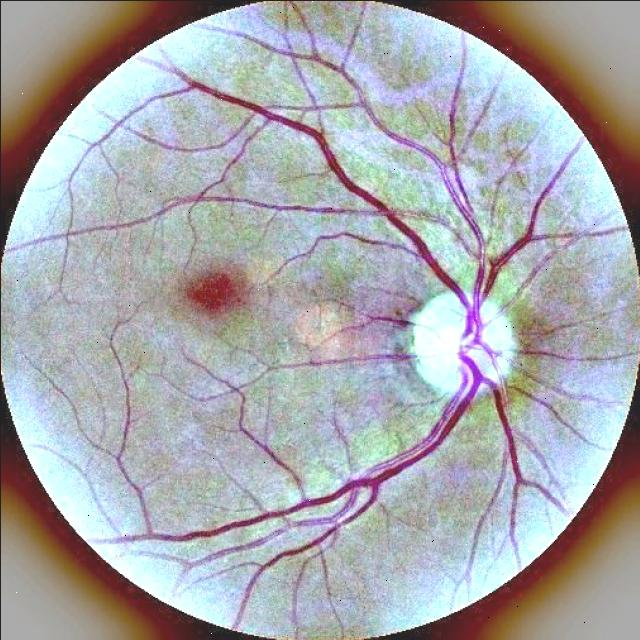Macula: (167, 258, 253, 325)
Nerves: (194, 105, 495, 562)
Optic Disk: (401, 276, 531, 412)
